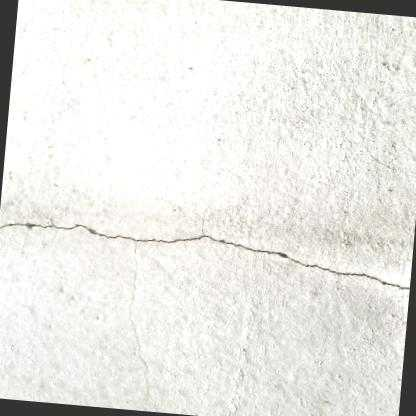crack: (0, 223, 410, 290)
